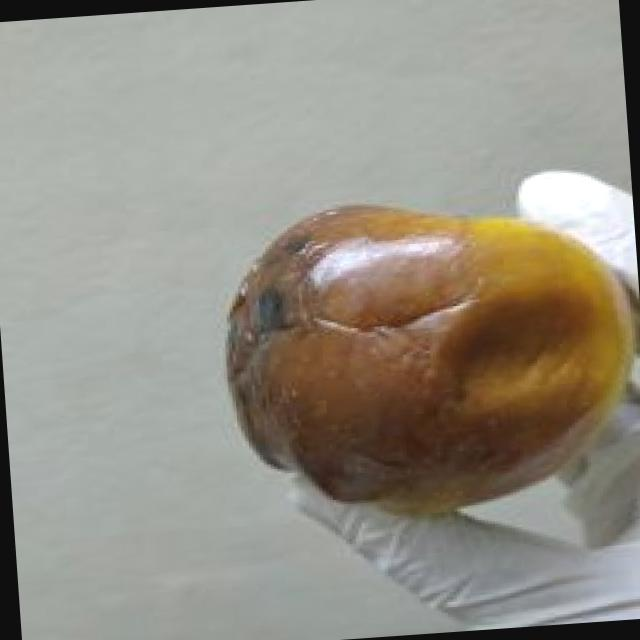Rotten_Apple: (170, 158, 640, 532)
